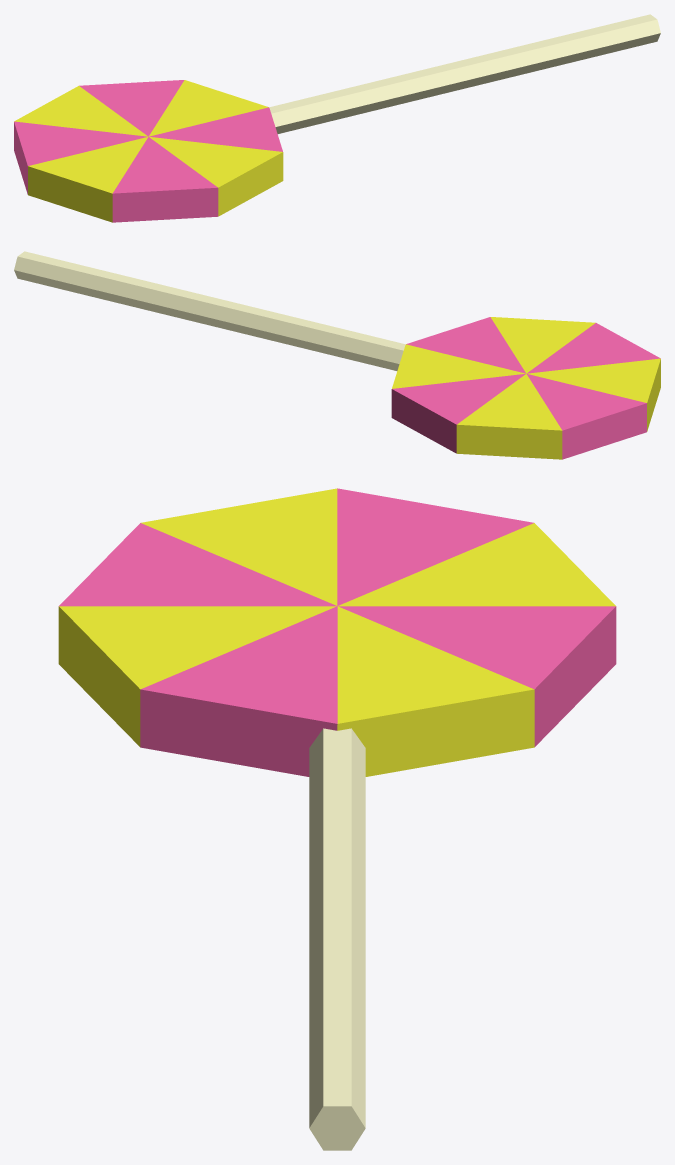
The model's file is Lolipop.fbx.
3 renders of one model, top to bottom at view 1: azimuth 30°, elevation 25°; view 2: azimuth 150°, elevation 25°; view 3: azimuth 270°, elevation 25°, orthographic. The views are drawn at different scales.
Visible parts, largest first — view 1: Cylinder; view 2: Cylinder; view 3: Cylinder.
Boxes of the visible parts, <box> form: Cylinder: <box>14,14,660,222</box>; Cylinder: <box>14,251,660,459</box>; Cylinder: <box>58,488,616,1150</box>.
Size of the model in its own units: 548 by 24.33 by 211.
